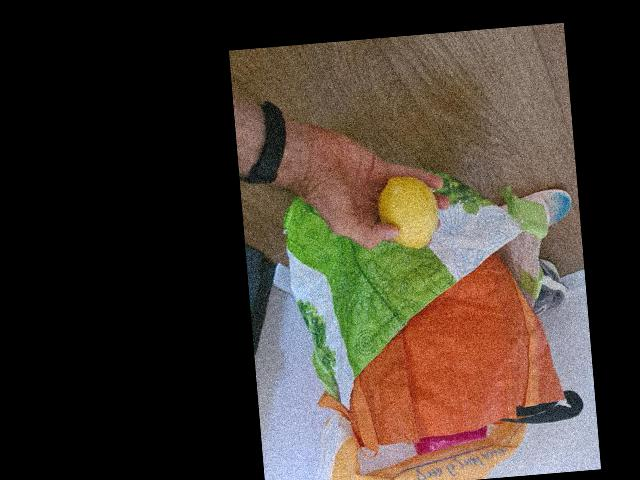lemon: (373, 172, 440, 252)
